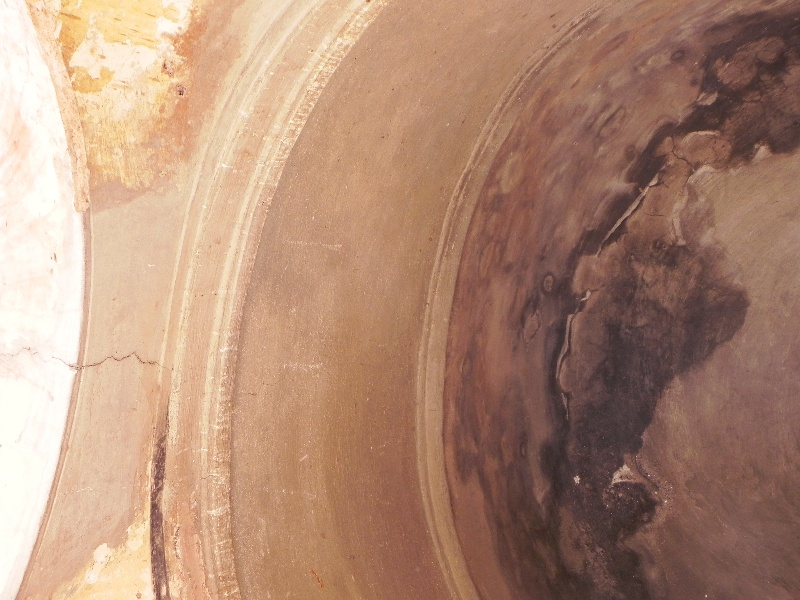Crack: (75, 349, 165, 372), (1, 343, 72, 372)
